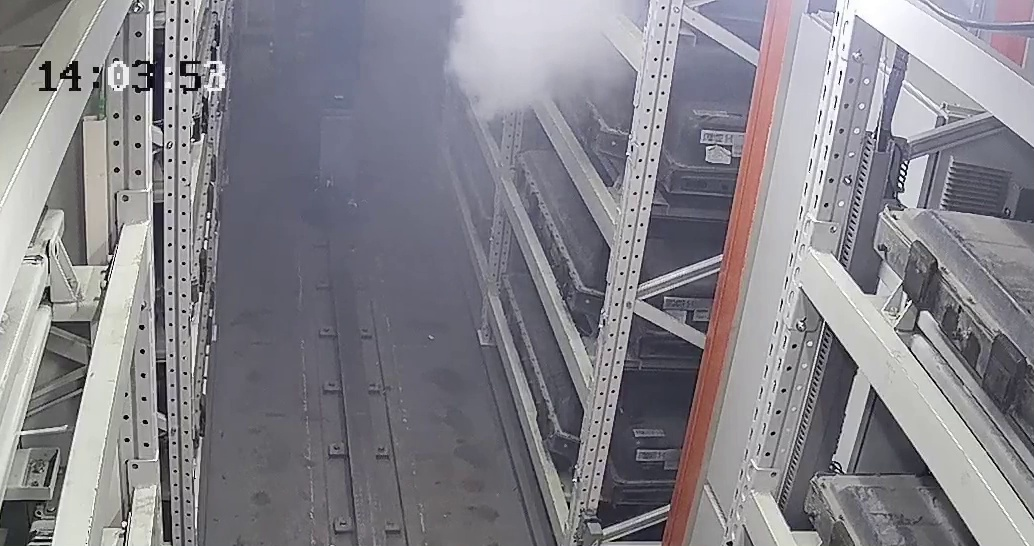smoke: (435, 6, 625, 125)
